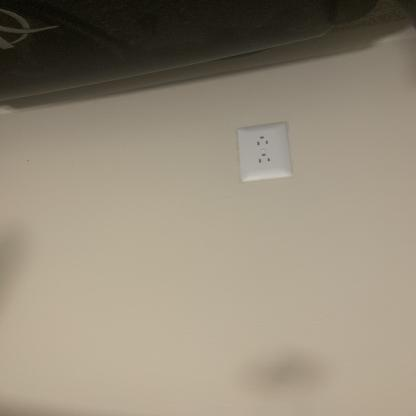OUTLET: (239, 122, 292, 181)
